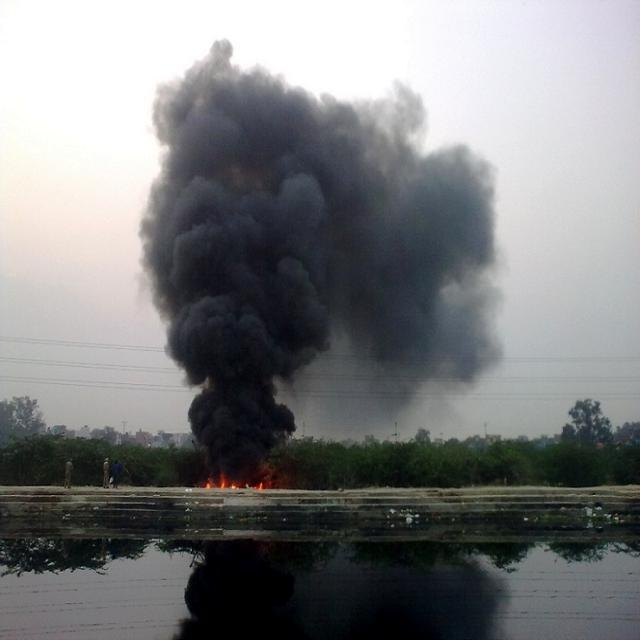Smoke: (134, 42, 508, 436)
